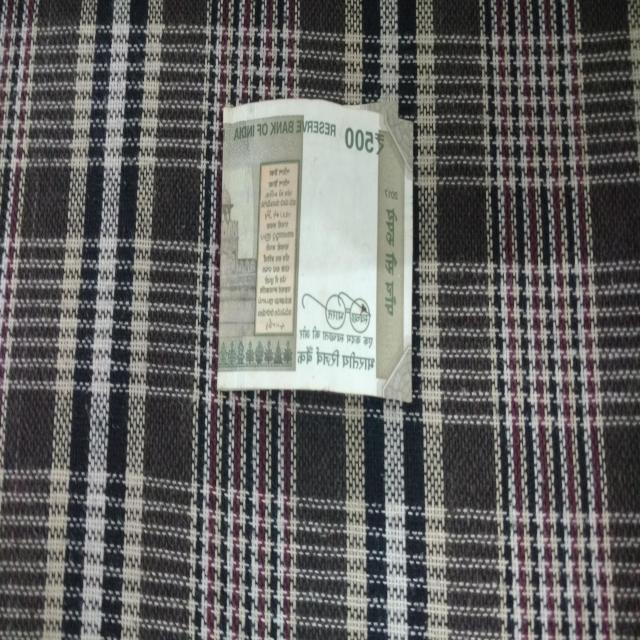Currency: (213, 96, 421, 405)
